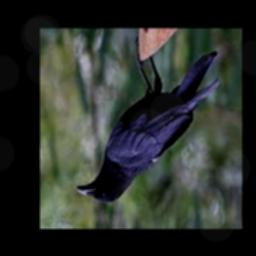Crow: (77, 37, 221, 203)
